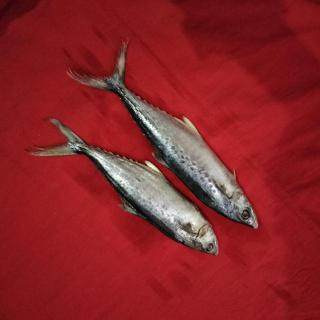Ikan: (24, 36, 272, 264)
